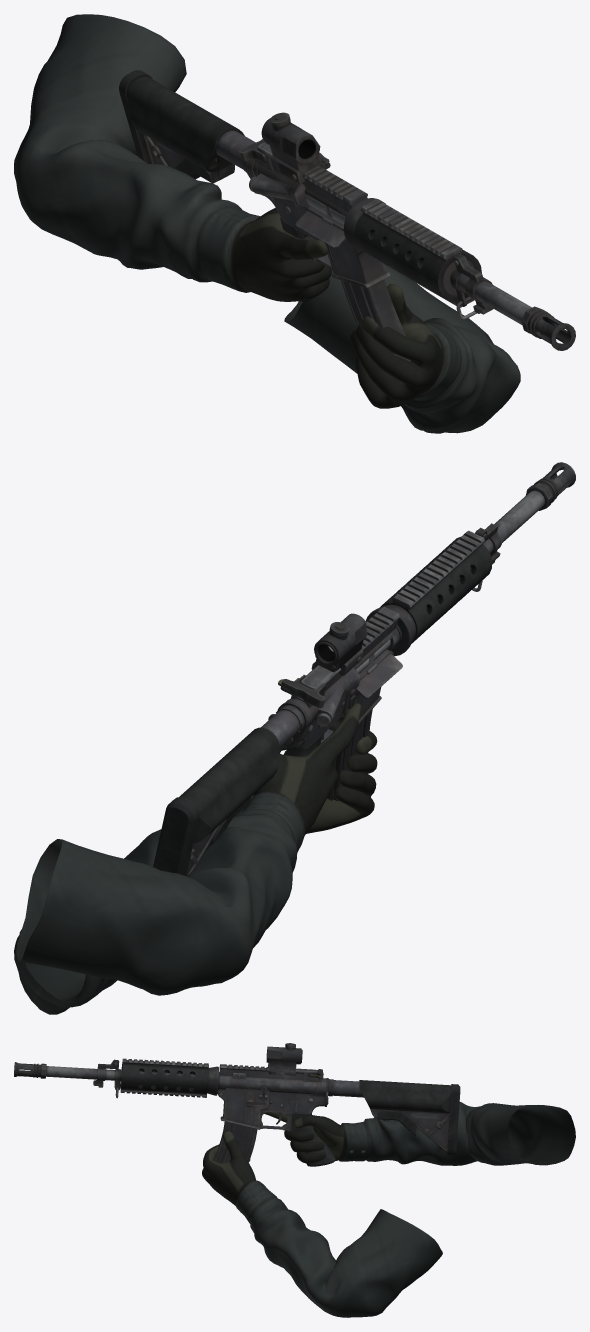
Rendered from carbine_000065.obj.
The picture shows the model from 3 angles, top to bottom: view 1: azimuth 30°, elevation 25°; view 2: azimuth 150°, elevation 25°; view 3: azimuth 270°, elevation 25°; orthographic projection. The views are drawn at different scales.
Visible parts, largest first — view 1: armmesh_arms_0, base_carbine_0, scope_carbine_0, clip_carbine_0, lid_carbine_0; view 2: armmesh_arms_0, base_carbine_0, scope_carbine_0, lid_carbine_0, clip_carbine_0, handle_carbine_0; view 3: armmesh_arms_0, base_carbine_0, scope_carbine_0, clip_carbine_0.
Boxes of the visible parts, x1,y1,x2,y2 form: armmesh_arms_0: (14,14,520,433); base_carbine_0: (119,70,575,350); scope_carbine_0: (261,112,330,183); clip_carbine_0: (341,279,410,361); lid_carbine_0: (295,210,345,248); armmesh_arms_0: (14,703,377,1014); base_carbine_0: (153,462,575,875); scope_carbine_0: (311,613,367,675); lid_carbine_0: (355,653,402,698); clip_carbine_0: (327,709,372,801); handle_carbine_0: (280,674,326,708); armmesh_arms_0: (202,1102,575,1317); base_carbine_0: (14,1058,460,1166); scope_carbine_0: (266,1043,302,1075); clip_carbine_0: (214,1121,257,1162).
Bounding box in the file's own units: 48.75 × 53.39 × 127.
Materials: 3 (3 with a texture image).
